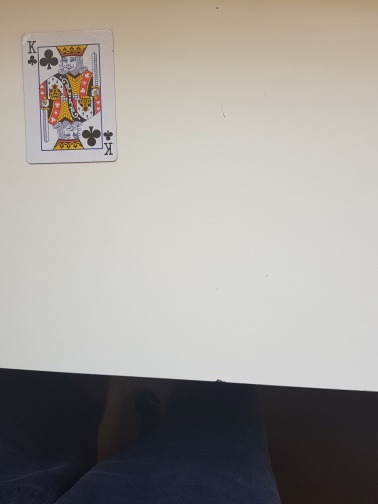king: (20, 27, 119, 164)
